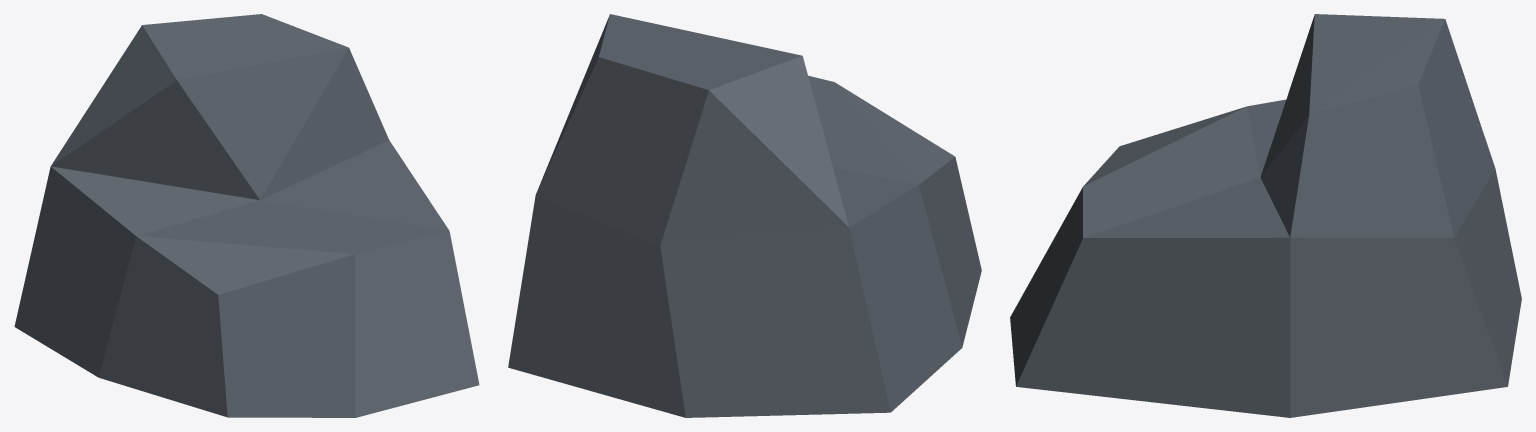
The model's file is FlatRock-B13.fbx.
The picture shows the model from 3 angles, left to right: view 1: azimuth 30°, elevation 25°; view 2: azimuth 150°, elevation 25°; view 3: azimuth 270°, elevation 25°; orthographic projection. The views are drawn at different scales.
Parts seen in each view (by area): view 1: FlatRock-B13; view 2: FlatRock-B13; view 3: FlatRock-B13.
Part boxes in pixels (bbox=[...]): FlatRock-B13: bbox=[14, 14, 479, 417]; FlatRock-B13: bbox=[508, 14, 981, 417]; FlatRock-B13: bbox=[1010, 14, 1521, 417].
Bounding box in the file's own units: 146 × 104 × 167.
